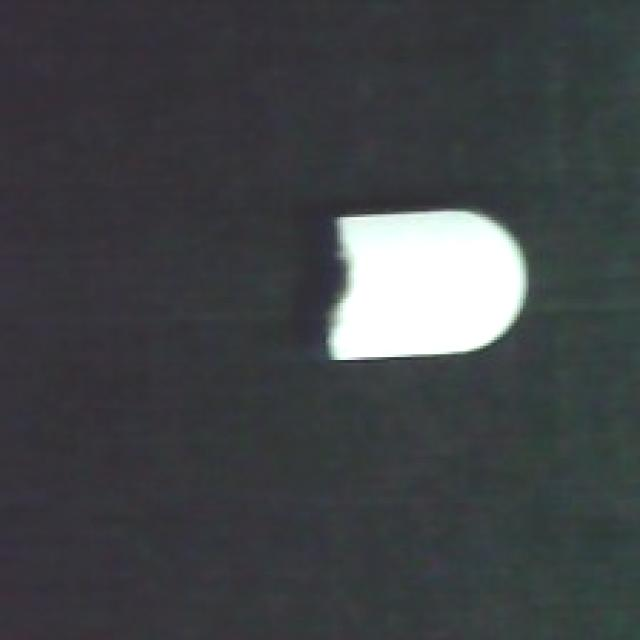defected: (320, 203, 531, 366)
